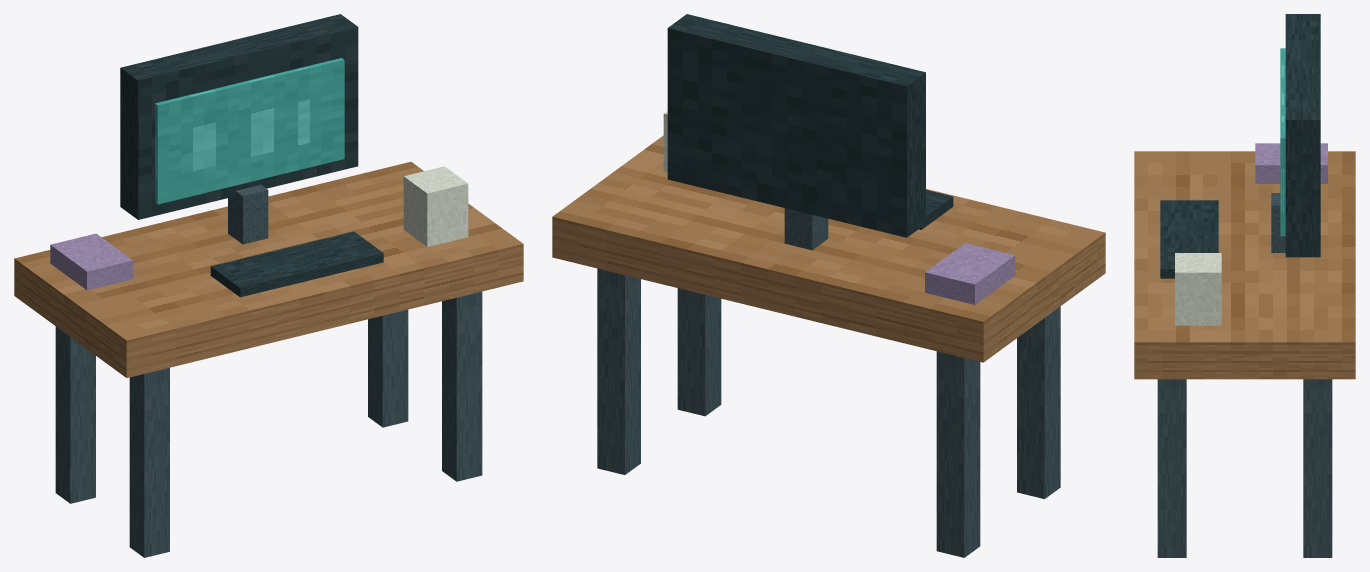
Rendered from desk_pc.glb.
3 renders of one model, left to right at view 1: azimuth 30°, elevation 25°; view 2: azimuth 150°, elevation 25°; view 3: azimuth 270°, elevation 25°, orthographic. The views are drawn at different scales.
Parts seen in each view (by area): view 1: block-0, block-7, block-6, block-4, block-2, block-1, block-8, block-9, block-3, block-10, block-5; view 2: block-0, block-6, block-1, block-3, block-2, block-4, block-10, block-5, block-8; view 3: block-0, block-6, block-3, block-4, block-8, block-9, block-10, block-7, block-5.
Boxes of the visible parts, x1,y1,x2,y2 form: block-0: [14, 162, 523, 377]; block-7: [155, 58, 344, 204]; block-6: [120, 14, 358, 219]; block-4: [442, 291, 482, 481]; block-2: [129, 367, 169, 557]; block-1: [55, 326, 95, 503]; block-8: [210, 231, 383, 297]; block-9: [403, 166, 468, 246]; block-3: [368, 309, 408, 427]; block-10: [50, 233, 133, 290]; block-5: [228, 185, 268, 244]; block-0: [552, 135, 1105, 362]; block-6: [667, 14, 925, 237]; block-1: [936, 351, 980, 557]; block-3: [597, 268, 640, 474]; block-2: [1017, 306, 1060, 498]; block-4: [677, 288, 721, 416]; block-10: [925, 243, 1015, 304]; block-5: [784, 208, 828, 250]; block-8: [918, 190, 953, 229]; block-0: [1134, 151, 1355, 379]; block-6: [1285, 14, 1320, 257]; block-3: [1303, 379, 1332, 557]; block-4: [1157, 379, 1186, 557]; block-8: [1160, 200, 1218, 278]; block-9: [1175, 253, 1221, 325]; block-10: [1255, 143, 1327, 183]; block-7: [1280, 48, 1285, 236]; block-5: [1271, 193, 1285, 252].
Bounding box in the file's own units: 1.55 × 1.55 × 0.76.
6 materials, 6 textured.
